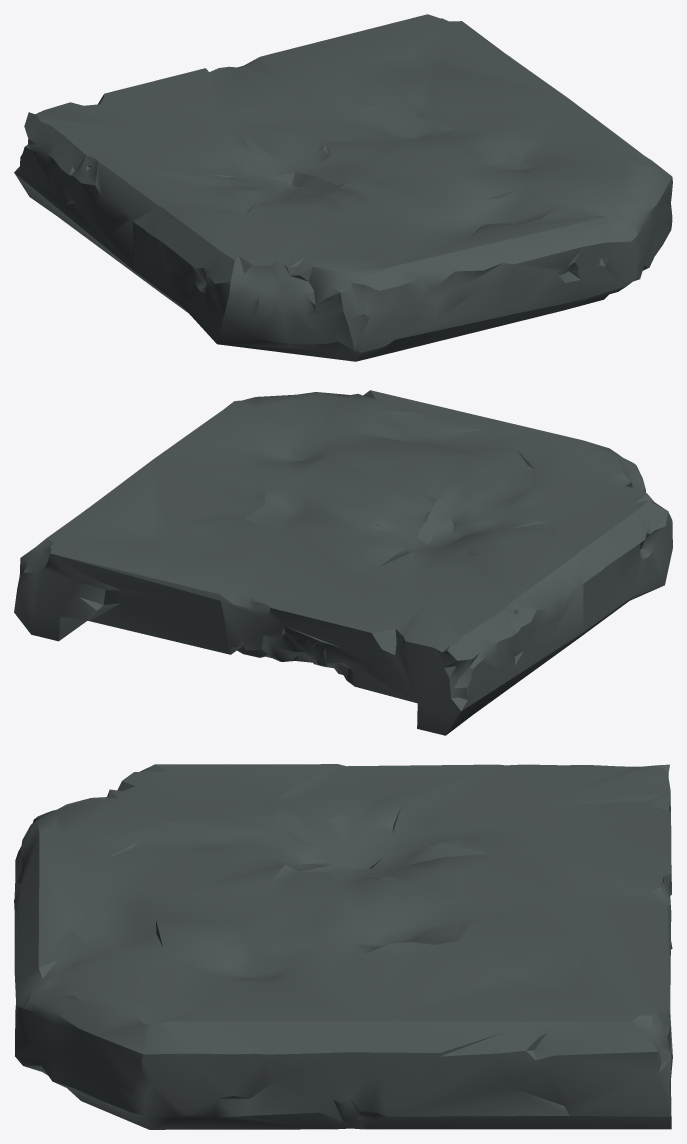
The model's file is B_Top.glb.
3 views of the same model, one above another, from view 1: azimuth 30°, elevation 25°; view 2: azimuth 150°, elevation 25°; view 3: azimuth 270°, elevation 25° (orthographic). The views are drawn at different scales.
Visible parts, largest first — view 1: B_Top.col; view 2: B_Top.col; view 3: B_Top.col.
Part boxes in pixels (<box>): B_Top.col: <box>14,14,672,361</box>; B_Top.col: <box>14,390,672,735</box>; B_Top.col: <box>14,764,672,1129</box>.
Bounding box in the file's own units: 3.9 × 0.7246 × 3.9.
Materials: 1 (1 with a texture image).
